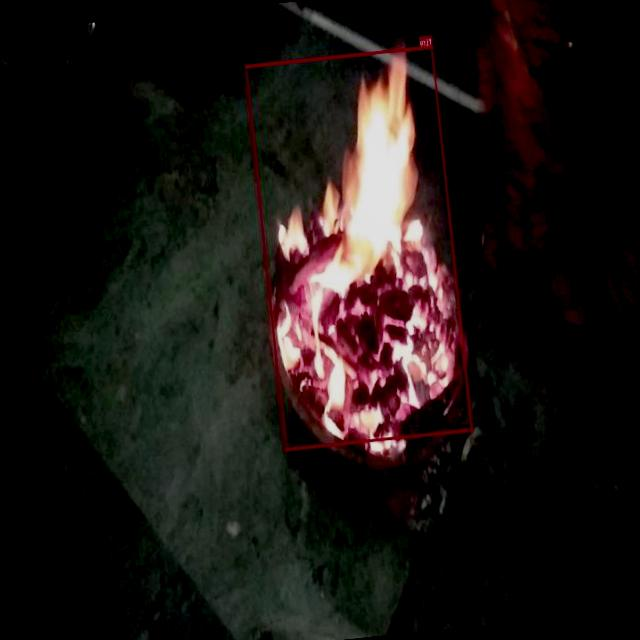fire: (244, 44, 473, 450)
